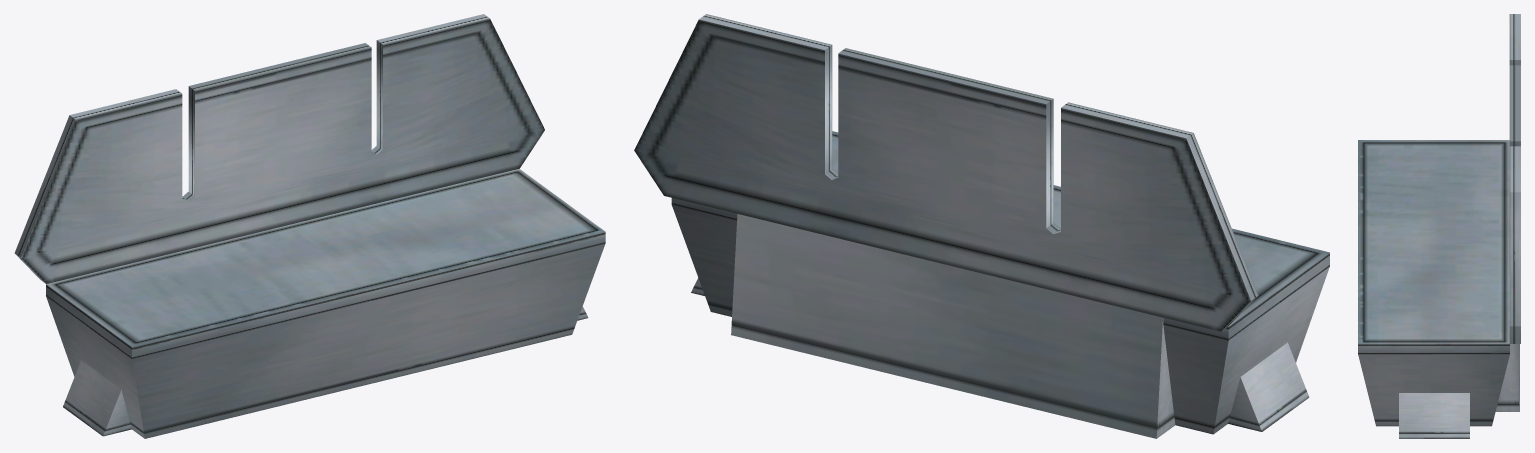
The model's file is frn_all_tech_couch_s01_l0.fbx.
3 views of the same model, side by side, from view 1: azimuth 30°, elevation 25°; view 2: azimuth 150°, elevation 25°; view 3: azimuth 270°, elevation 25° (orthographic). The views are drawn at different scales.
Parts seen in each view (by area): view 1: mesh_node; view 2: mesh_node; view 3: mesh_node.
Part boxes in pixels (x1,y1,x2,y2): mesh_node: (14,14,605,438); mesh_node: (634,14,1329,438); mesh_node: (1358,14,1520,438).
Bounding box in the file's own units: 2.09 × 0.997 × 0.6363.
1 material, 1 textured.
